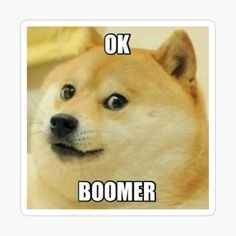doge: (33, 45, 202, 206)
